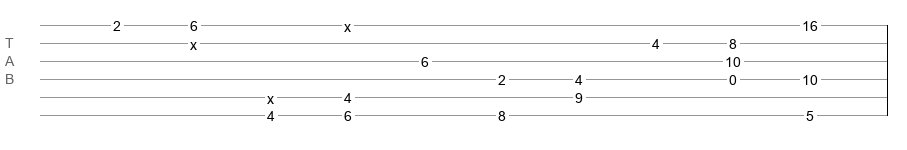0: (729, 72, 737, 82)
10: (725, 54, 741, 64), (802, 72, 818, 82)
16: (802, 18, 818, 28)
2: (113, 18, 121, 28), (498, 72, 506, 82)
4: (267, 108, 275, 118), (344, 90, 352, 100), (575, 72, 583, 82), (652, 36, 660, 46)
5: (806, 108, 814, 118)
6: (190, 18, 198, 28), (344, 108, 352, 118), (421, 54, 429, 64)
8: (498, 108, 506, 118), (729, 36, 737, 46)
9: (575, 90, 583, 100)
x: (190, 37, 197, 45), (267, 91, 274, 99), (344, 19, 351, 27)
